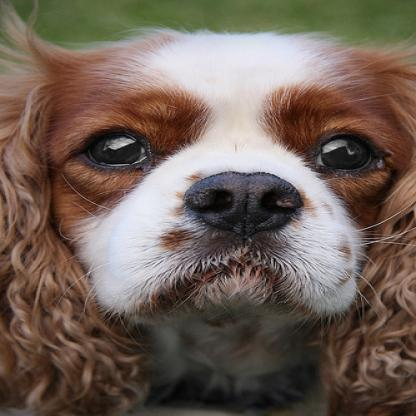dog: (0, 28, 415, 415)
